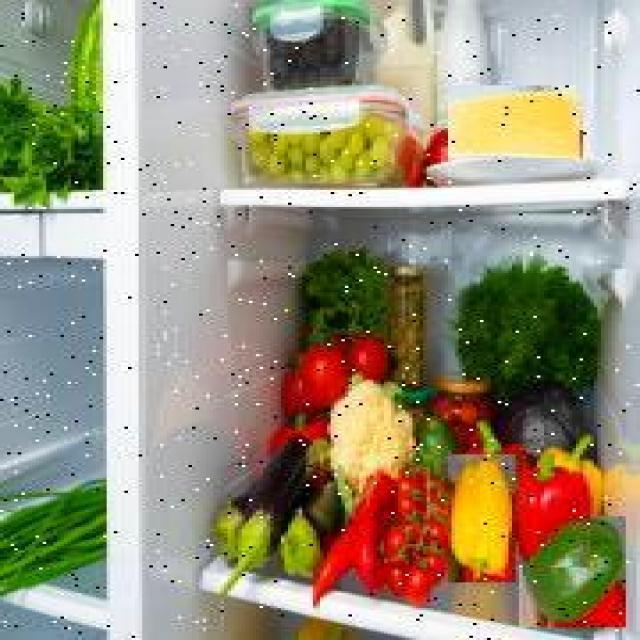avocado: (519, 516, 626, 627)
bell_pepper: (448, 454, 516, 582), (519, 448, 590, 568)
cheese: (448, 86, 583, 159)
salad: (302, 248, 388, 342)
tomato: (300, 333, 350, 414), (348, 330, 388, 390)
